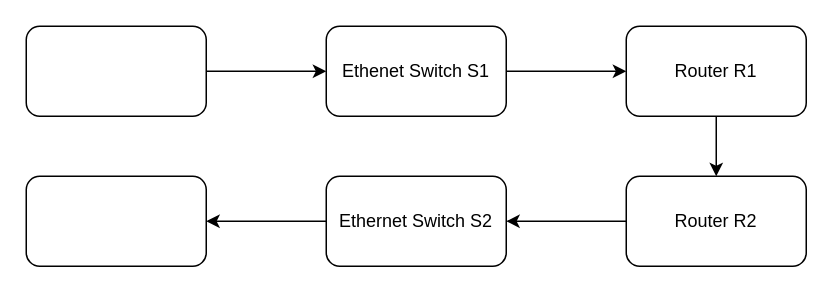
This 833x293 diagram has some shape labels left out. The shapes that lost their labels are listed below. From the top down, each one's centre as x and y in pixels, then its label:
At [115,70]: "host A".
At [115,220]: "host B".
